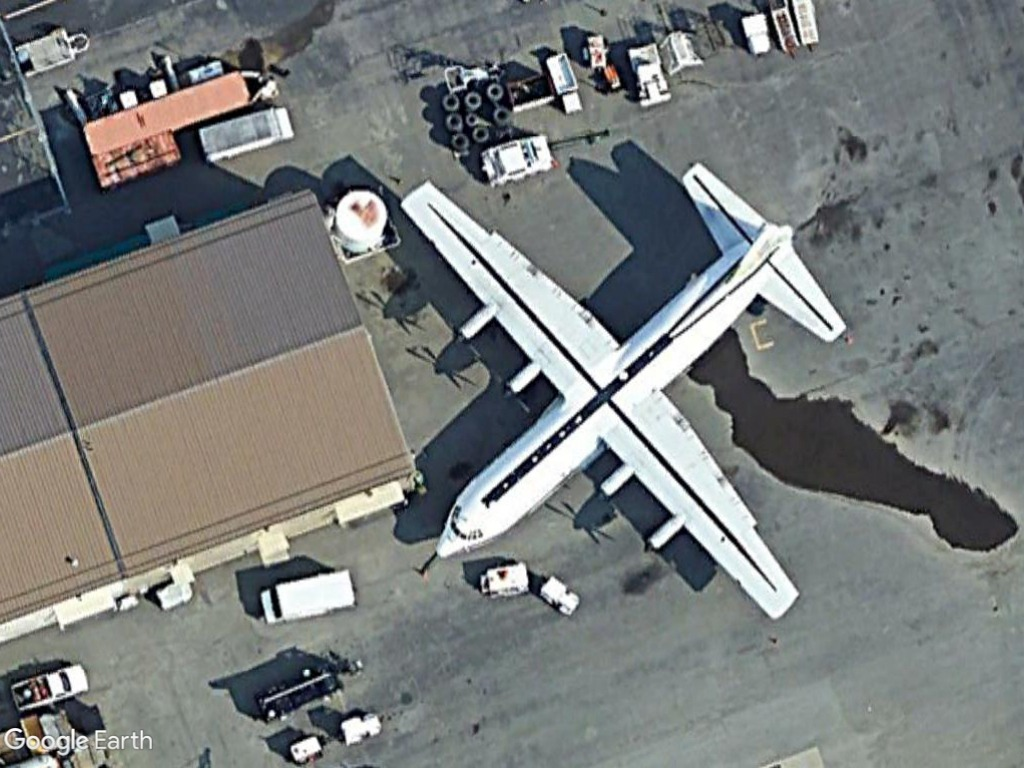other: (7, 661, 95, 715)
propeller: (389, 162, 860, 629)
van: (252, 557, 363, 631)
